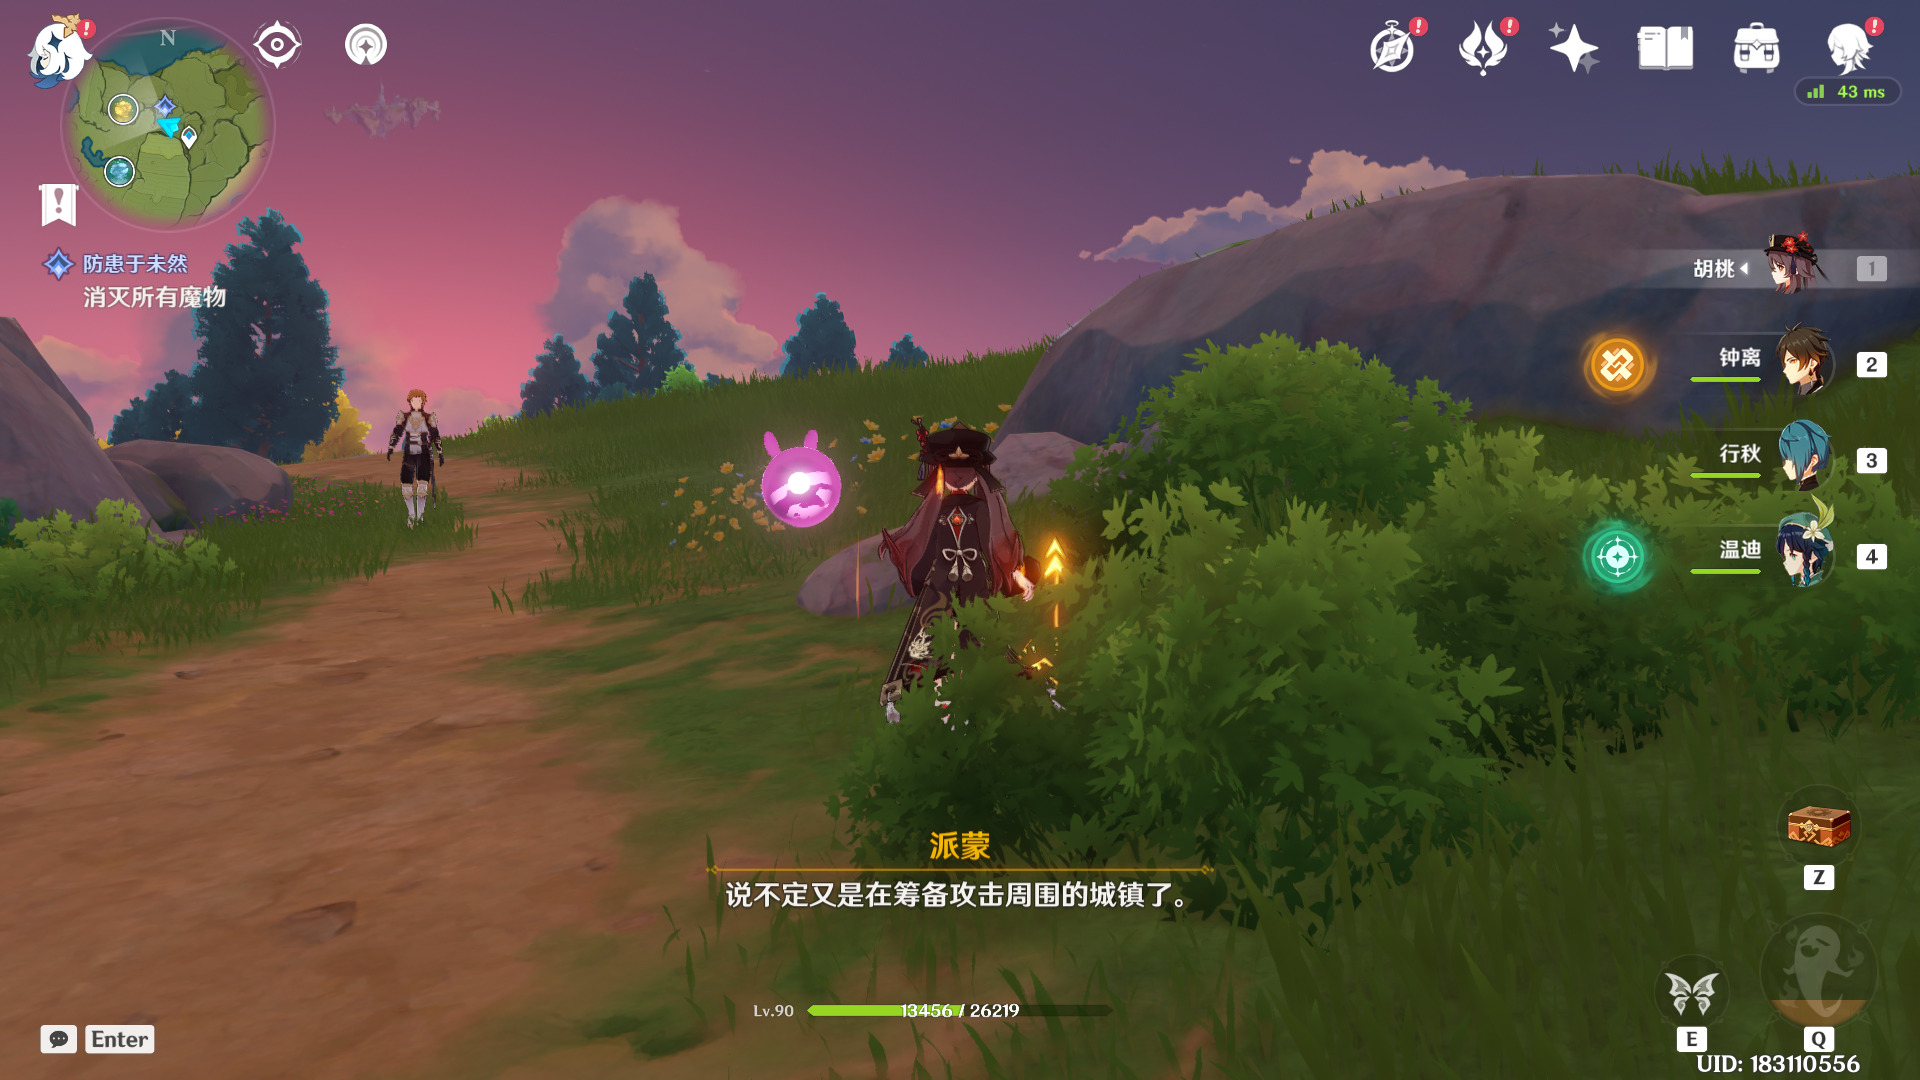character: (802, 398, 1102, 798)
